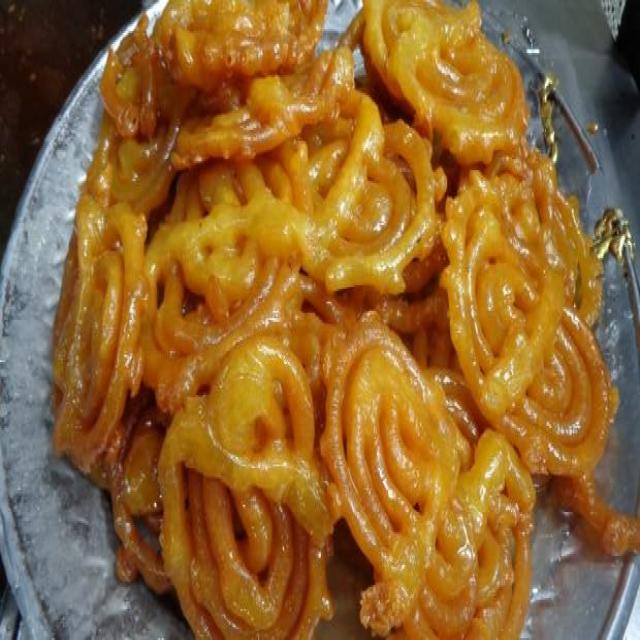jalebi: (64, 2, 617, 640)
